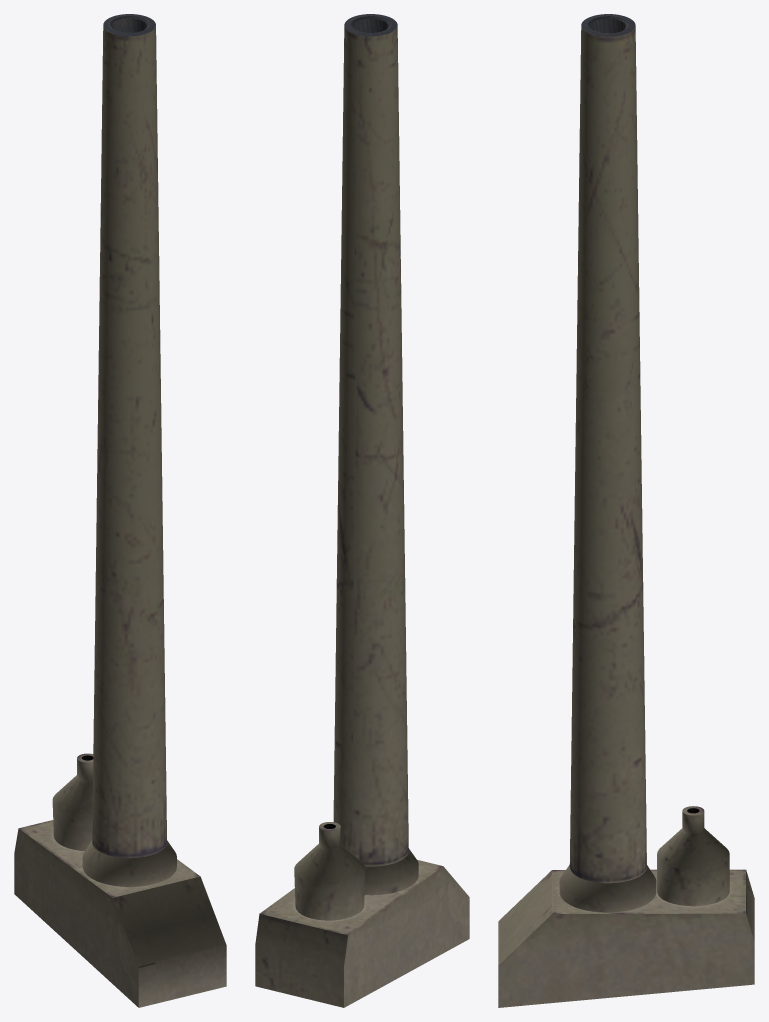
The model's file is Gun_02.glb.
The picture shows the model from 3 angles, left to right: view 1: azimuth 30°, elevation 25°; view 2: azimuth 150°, elevation 25°; view 3: azimuth 270°, elevation 25°; orthographic projection. The views are drawn at different scales.
Parts seen in each view (by area): view 1: set_0_group_0; view 2: set_0_group_0; view 3: set_0_group_0.
Boxes of the visible parts, x1=… form: set_0_group_0: x1=14, y1=14, x2=226, y2=1007; set_0_group_0: x1=255, y1=14, x2=469, y2=1007; set_0_group_0: x1=498, y1=14, x2=754, y2=1007.
Bounding box in the file's own units: 0.1737 × 1.77 × 0.4261.
1 material, 1 textured.
